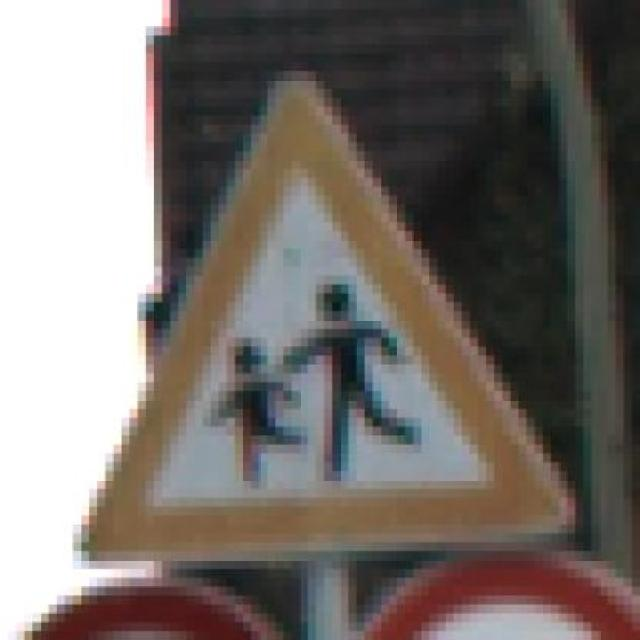Beware of children: (64, 71, 576, 569)
